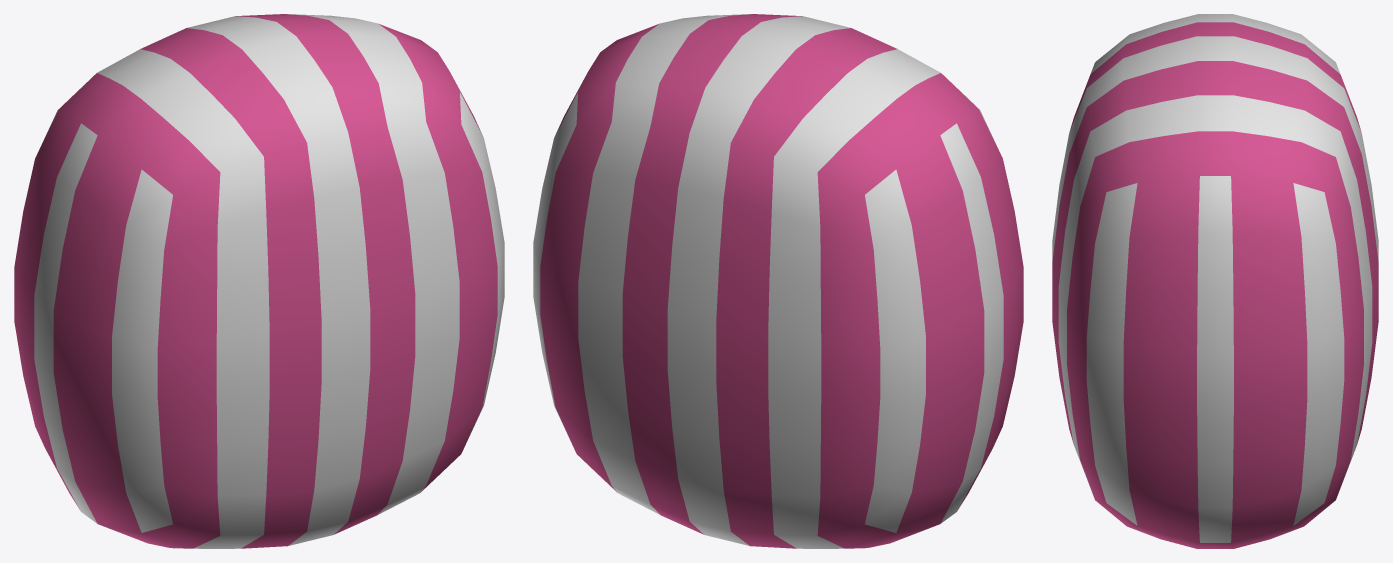
Rendered from base_bonbon_rose.dae.
3 renders of one model, left to right at view 1: azimuth 30°, elevation 25°; view 2: azimuth 150°, elevation 25°; view 3: azimuth 270°, elevation 25°, orthographic. The views are drawn at different scales.
Visible parts, largest first — view 1: Cube; view 2: Cube; view 3: Cube.
Part boxes in pixels (x1,y1,x2,y2): Cube: (14,14,504,548); Cube: (533,14,1023,548); Cube: (1052,14,1378,548).
Size of the model in its own units: 2.25 by 1.56 by 2.46.
